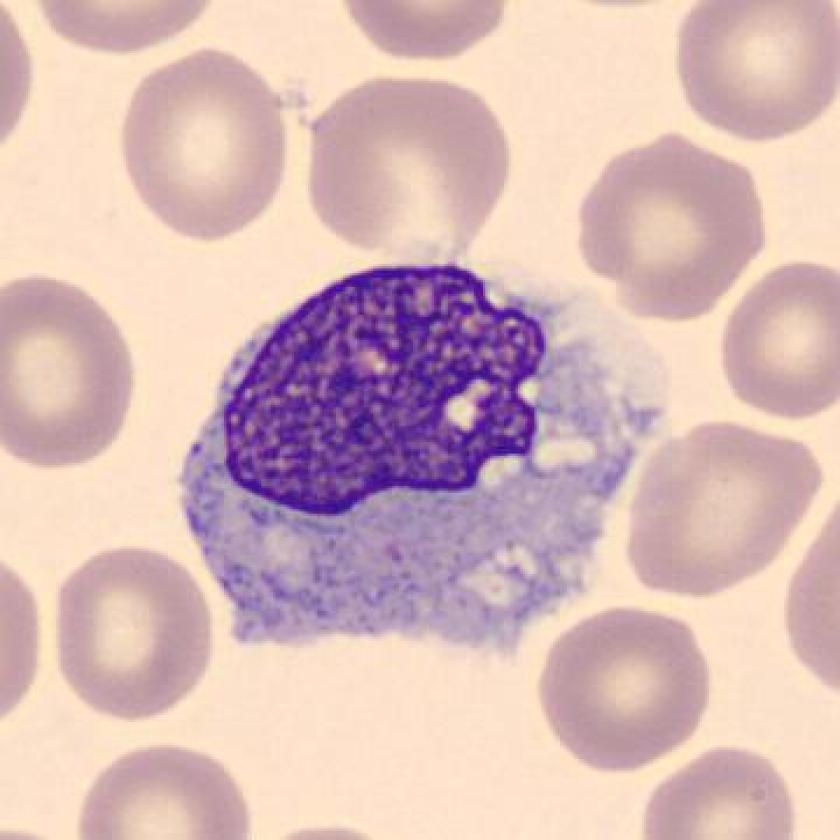monocyte: (153, 235, 687, 684)
